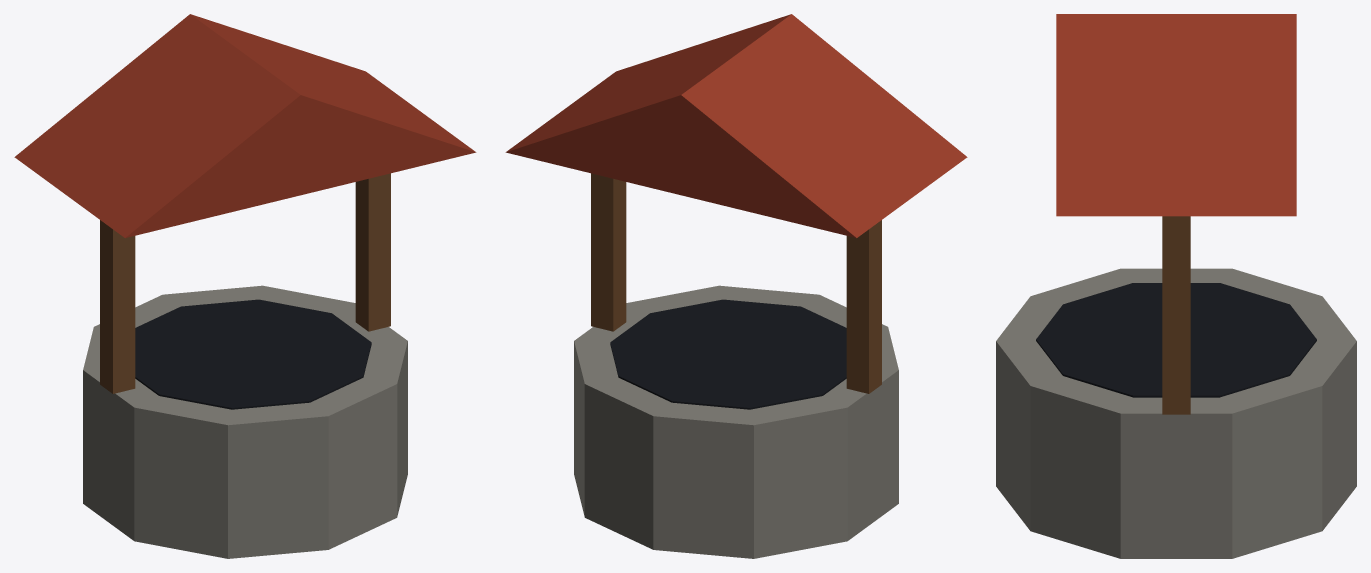
The model's file is well.glb.
3 views of the same model, side by side, from view 1: azimuth 30°, elevation 25°; view 2: azimuth 150°, elevation 25°; view 3: azimuth 270°, elevation 25° (orthographic). The views are drawn at different scales.
Parts seen in each view (by area): view 1: well; view 2: well; view 3: well.
Part boxes in pixels (x1=…): well: x1=14, y1=14, x2=476, y2=558; well: x1=505, y1=14, x2=967, y2=558; well: x1=996, y1=14, x2=1356, y2=558.
Bounding box in the file's own units: 2.2 × 2.6 × 1.8.
